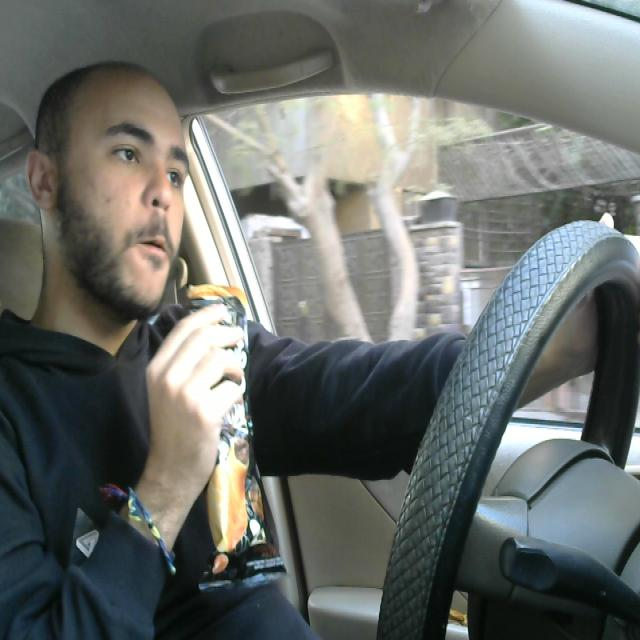eating: (182, 275, 290, 594)
